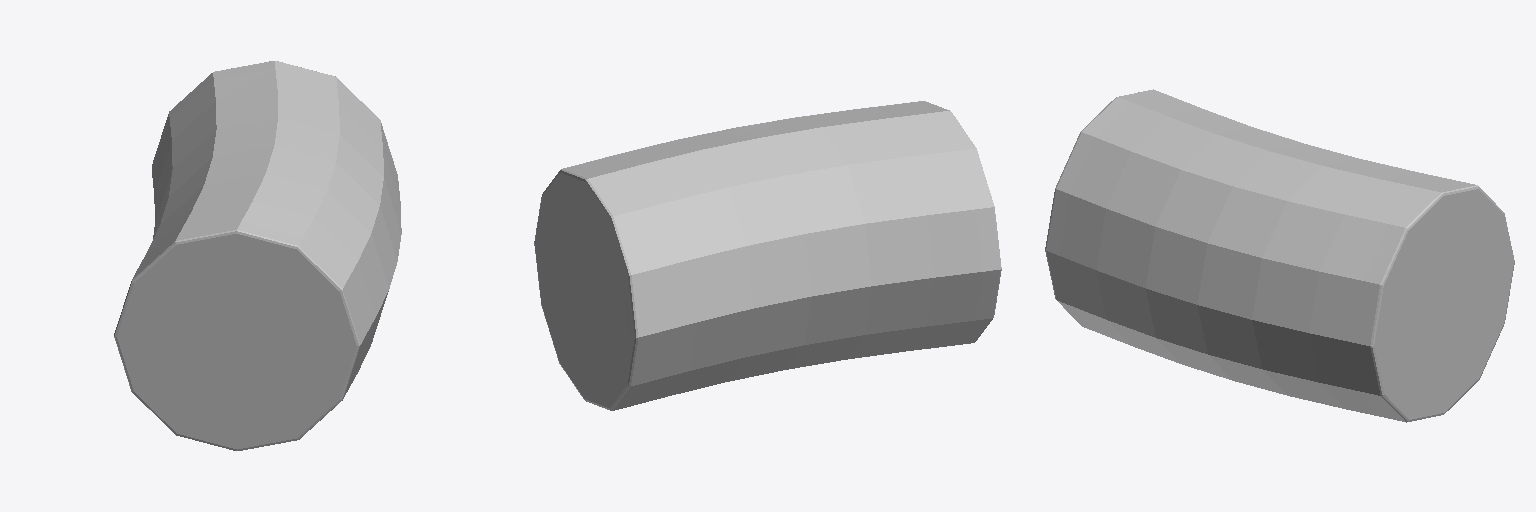
Rendered from ring_toss_tie.obj.
3 renders of one model, left to right at view 1: azimuth 30°, elevation 25°; view 2: azimuth 150°, elevation 25°; view 3: azimuth 270°, elevation 25°, orthographic.
Parts seen in each view (by area): view 1: 18851_Ring_Toss_Game_V1.001; view 2: 18851_Ring_Toss_Game_V1.001; view 3: 18851_Ring_Toss_Game_V1.001.
Boxes of the visible parts, x1,y1,x2,y2 form: 18851_Ring_Toss_Game_V1.001: [114, 61, 401, 450]; 18851_Ring_Toss_Game_V1.001: [534, 101, 1001, 410]; 18851_Ring_Toss_Game_V1.001: [1045, 89, 1514, 422].
Size of the model in its own units: 4.71 by 2.68 by 5.1.